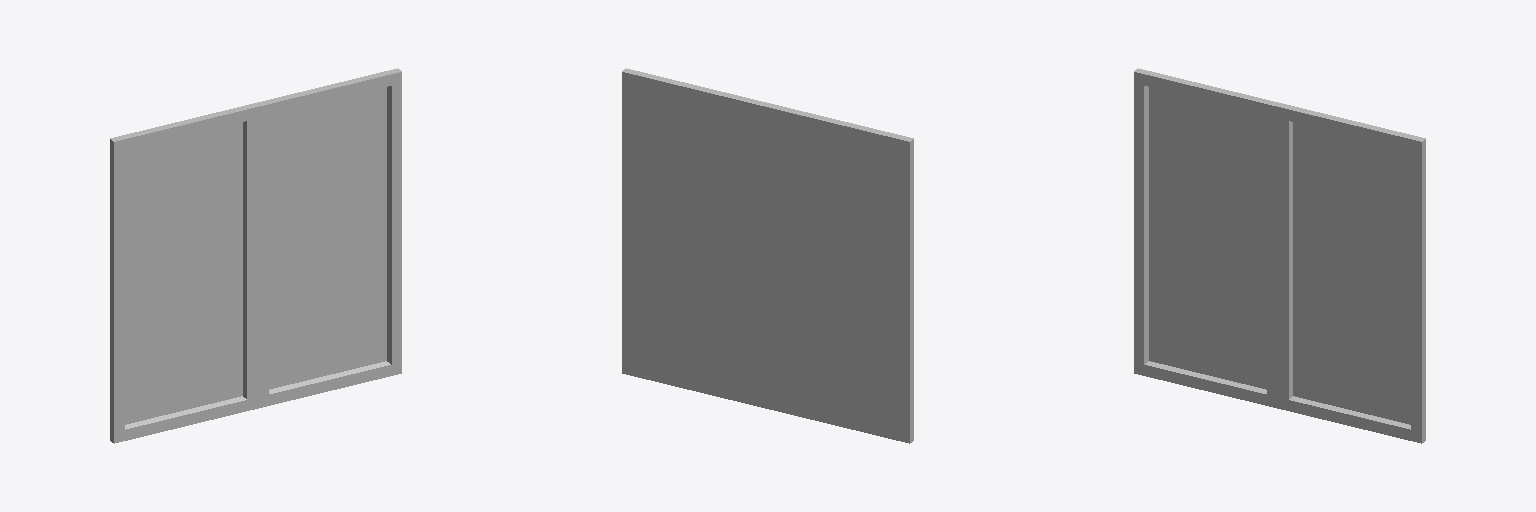
Rendered from window_001.obj.
3 renders of one model, left to right at view 1: azimuth 30°, elevation 25°; view 2: azimuth 150°, elevation 25°; view 3: azimuth 330°, elevation 25°, orthographic.
Visible parts, largest first — view 1: window_001_Plane.002; view 2: window_001_Plane.002; view 3: window_001_Plane.002.
Part boxes in pixels (left/top/right/bottom): window_001_Plane.002: left=110, top=68, right=401, bottom=443; window_001_Plane.002: left=622, top=68, right=913, bottom=443; window_001_Plane.002: left=1134, top=68, right=1425, bottom=443.
Size of the model in its own units: 1.5 by 1.5 by 0.0414.